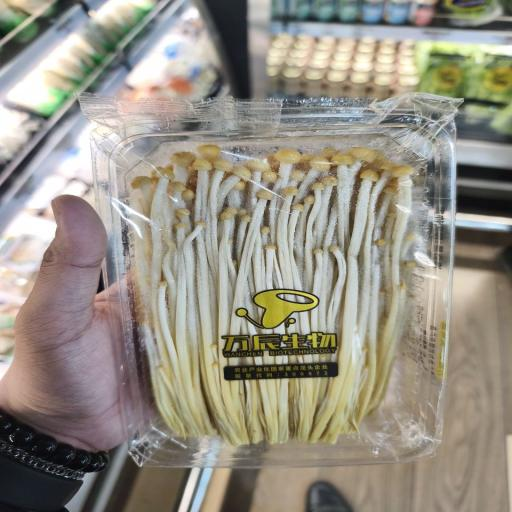Enoki Mushroom: (119, 137, 421, 449)
